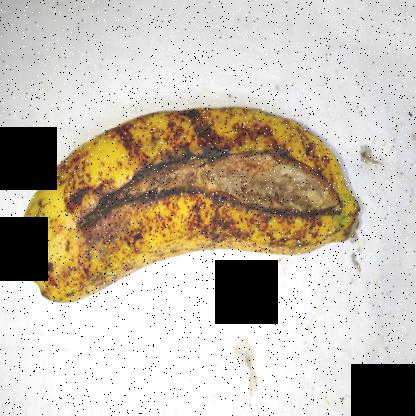rotten: (73, 126, 351, 247)
